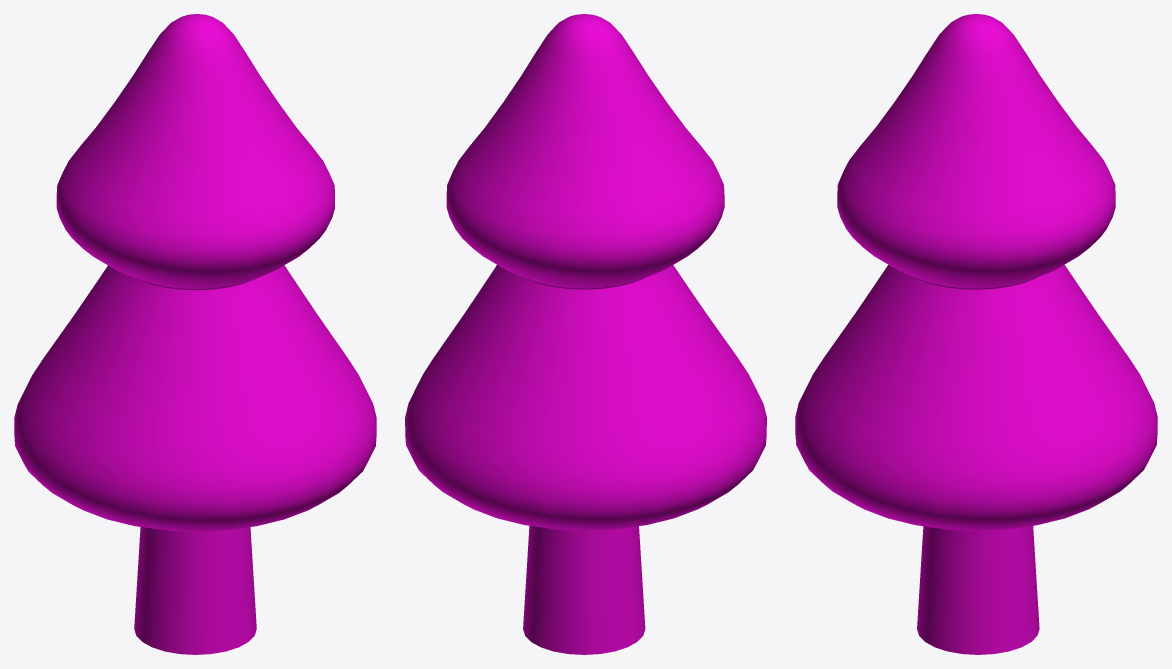
File: Pine 3.fbx
3 views of the same model, side by side, from view 1: azimuth 30°, elevation 25°; view 2: azimuth 150°, elevation 25°; view 3: azimuth 270°, elevation 25° (orthographic).
Visible parts, largest first — view 1: Bush, Trunk; view 2: Bush, Trunk; view 3: Bush, Trunk.
Part boxes in pixels (bbox=[...]): Bush: bbox=[14, 14, 376, 531]; Trunk: bbox=[134, 527, 256, 654]; Bush: bbox=[405, 14, 766, 530]; Trunk: bbox=[523, 525, 645, 654]; Bush: bbox=[795, 14, 1157, 530]; Trunk: bbox=[917, 526, 1039, 654].
Bounding box in the file's own units: 4 × 7.41 × 3.97.
